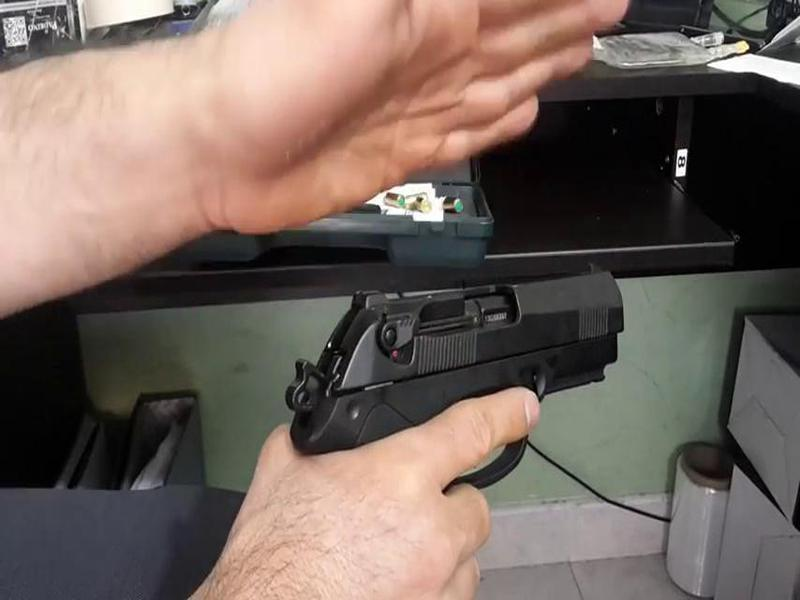Pistola: (250, 254, 646, 500)
